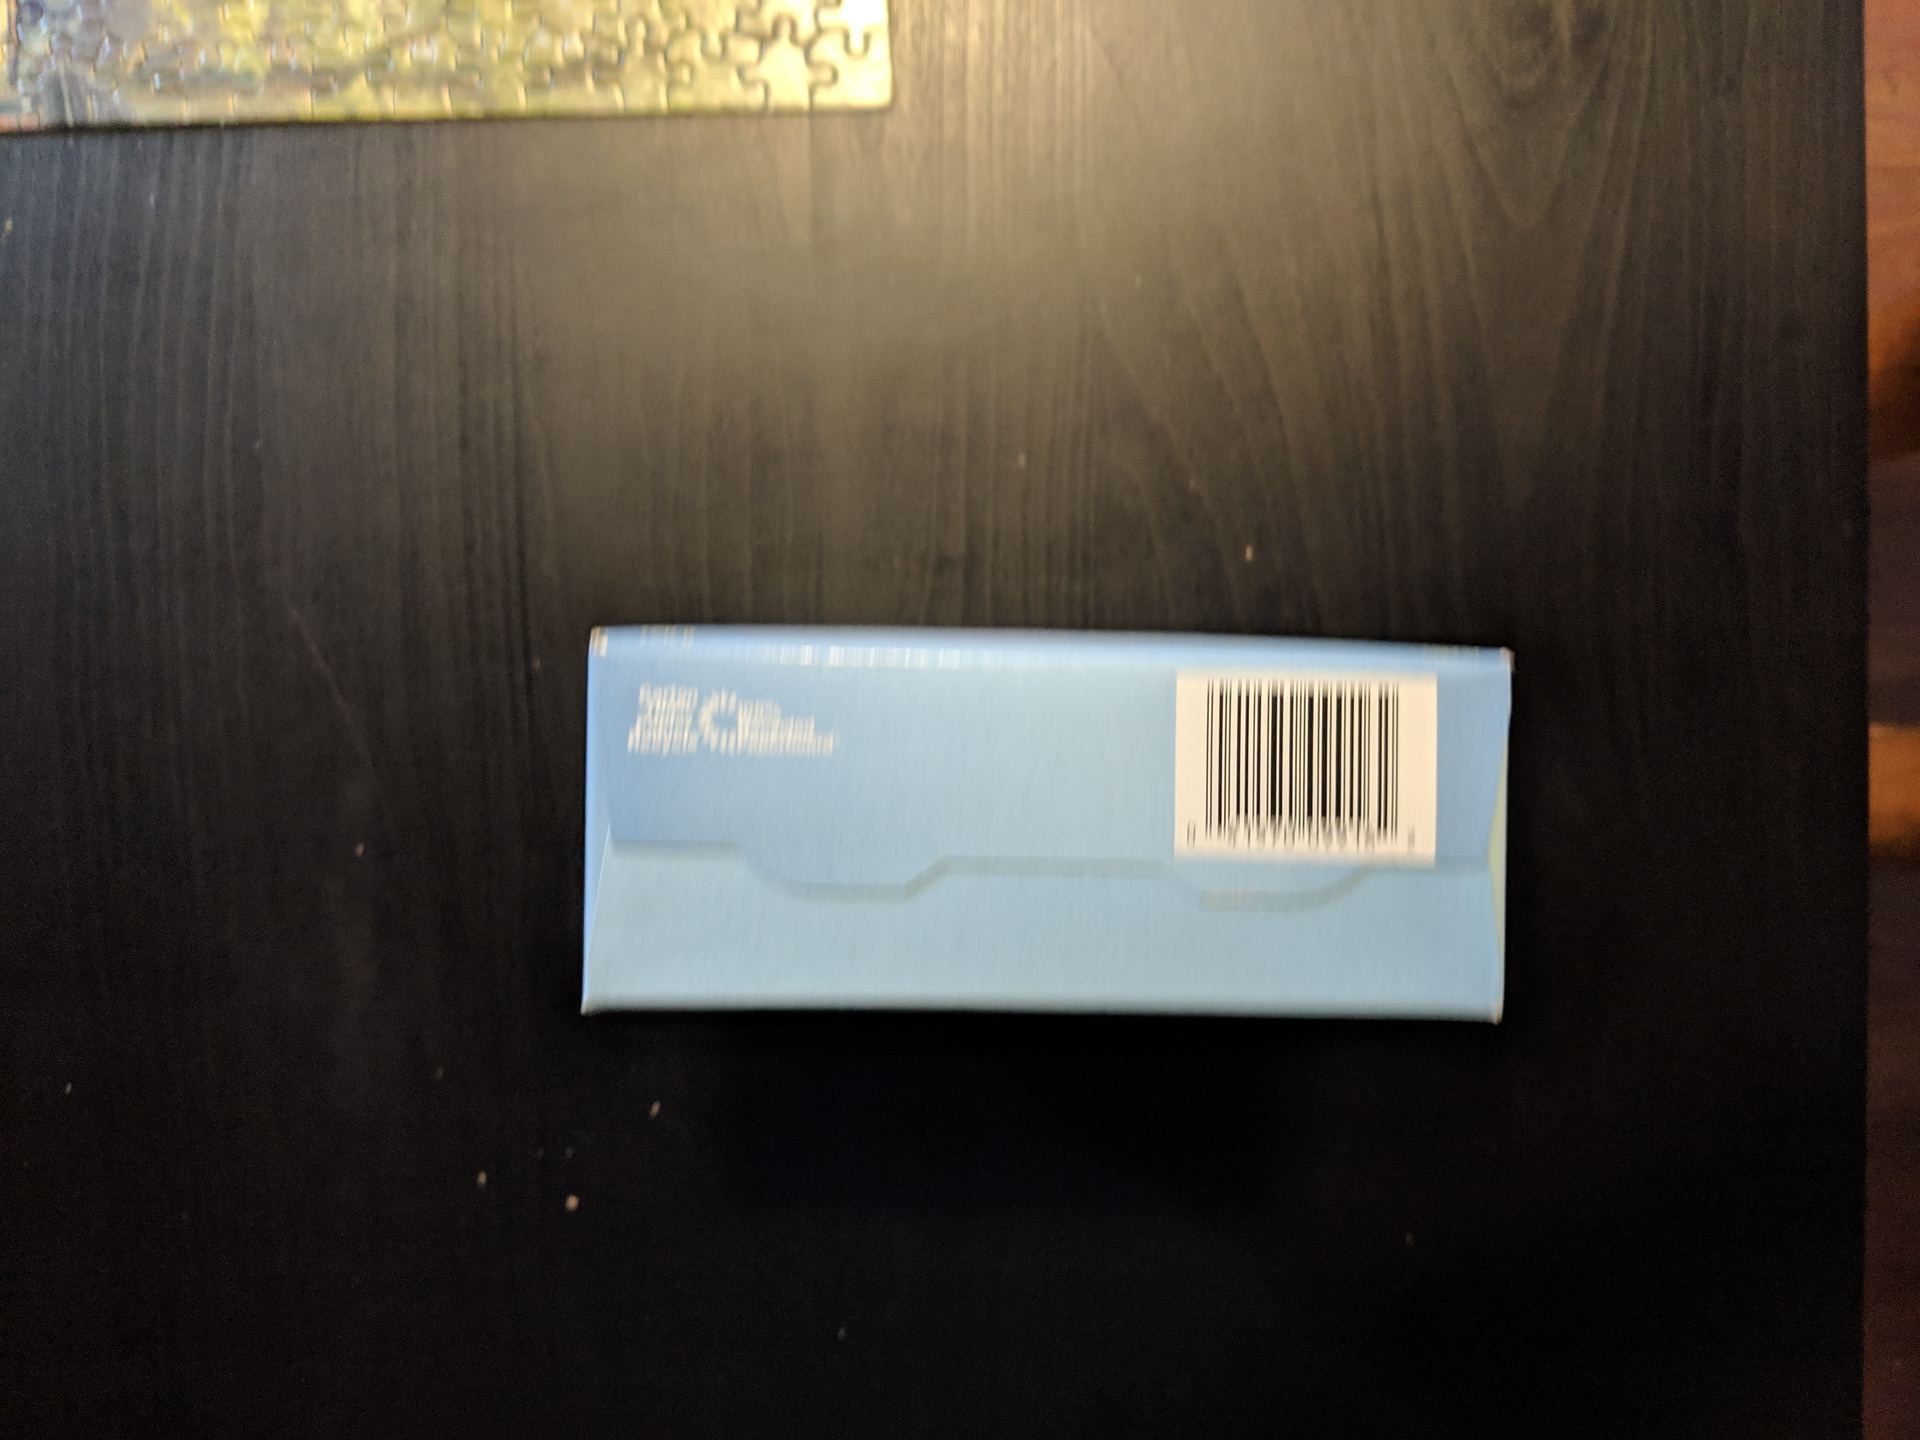blue_diamond_nut_thins_almond_seasalt: (590, 629, 1510, 1027)
